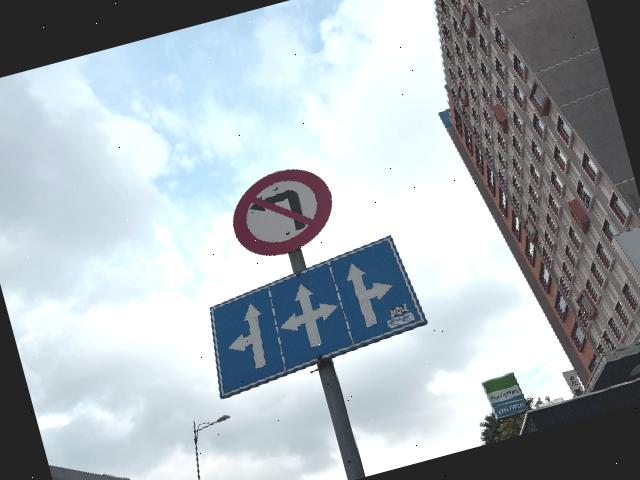cam-re-trai: (221, 156, 345, 266)
